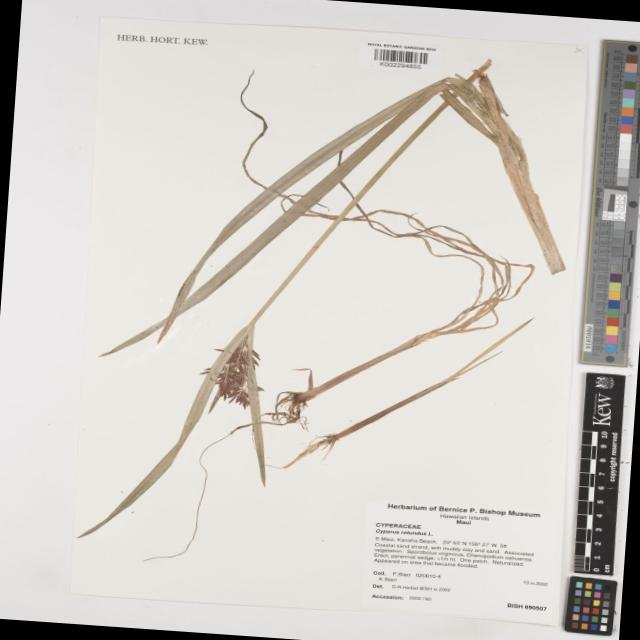cyperus: (188, 334, 276, 420)
